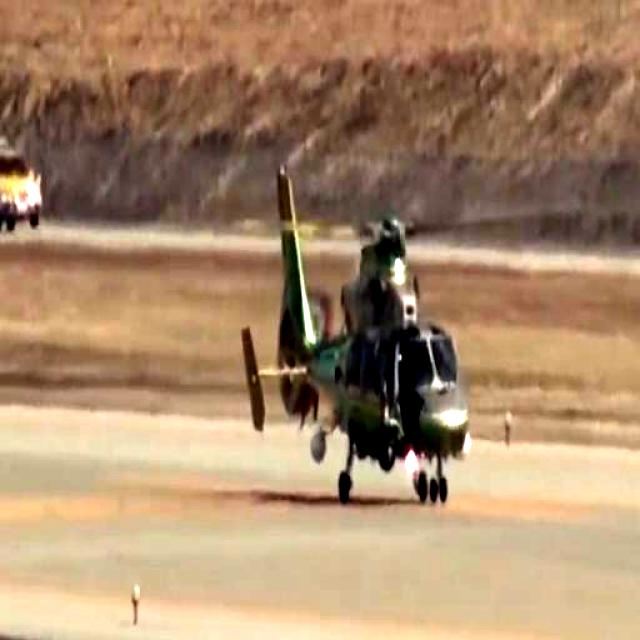drone: (240, 160, 471, 515)
